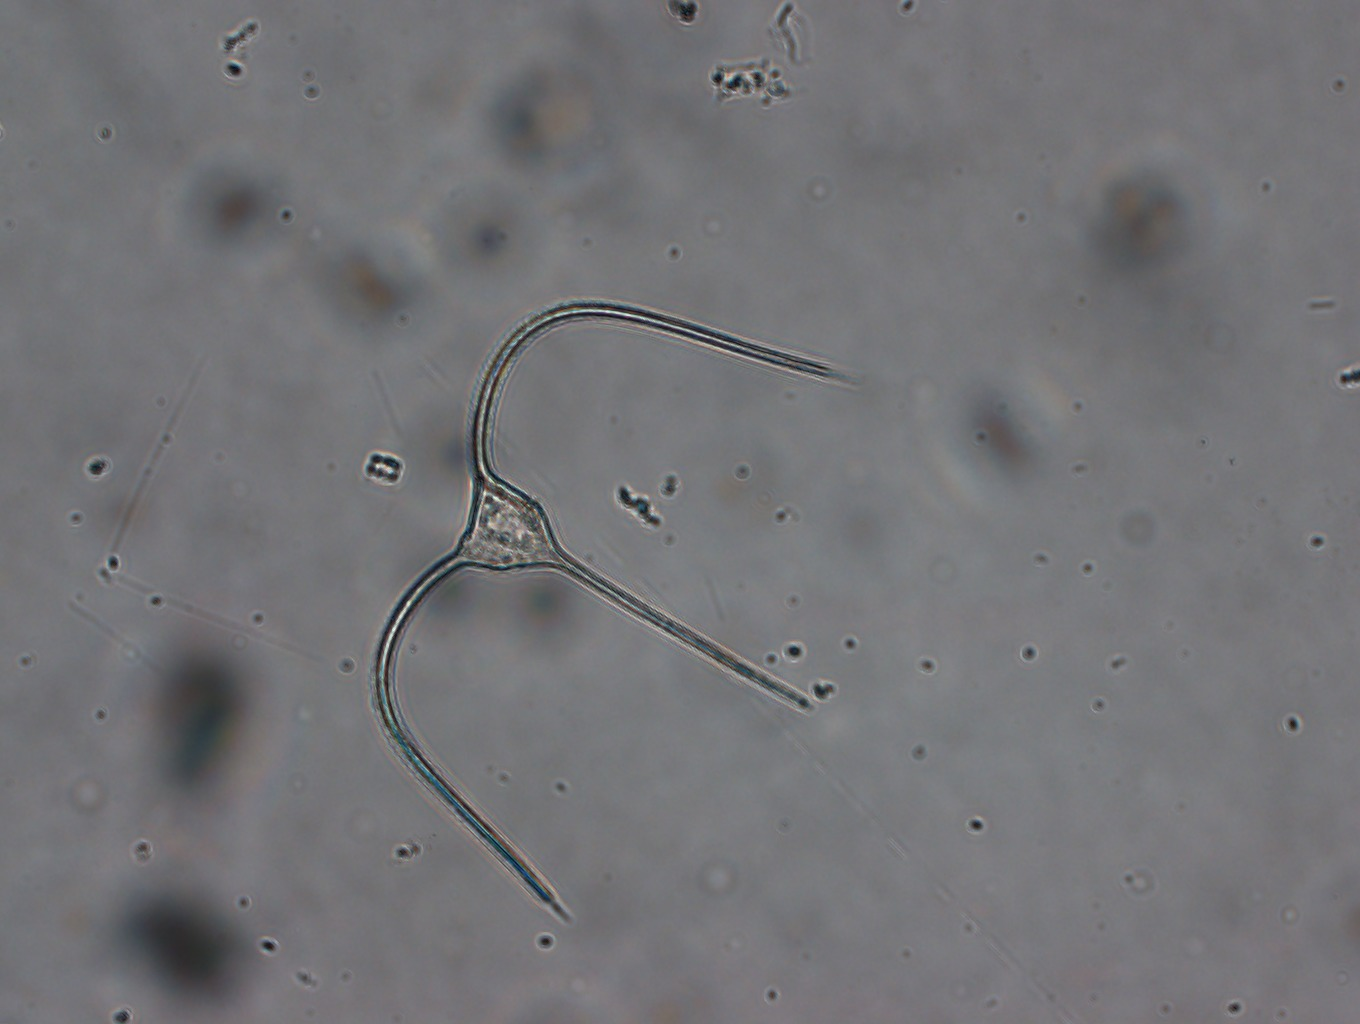ceratium trichoceros: (373, 299, 860, 927)
